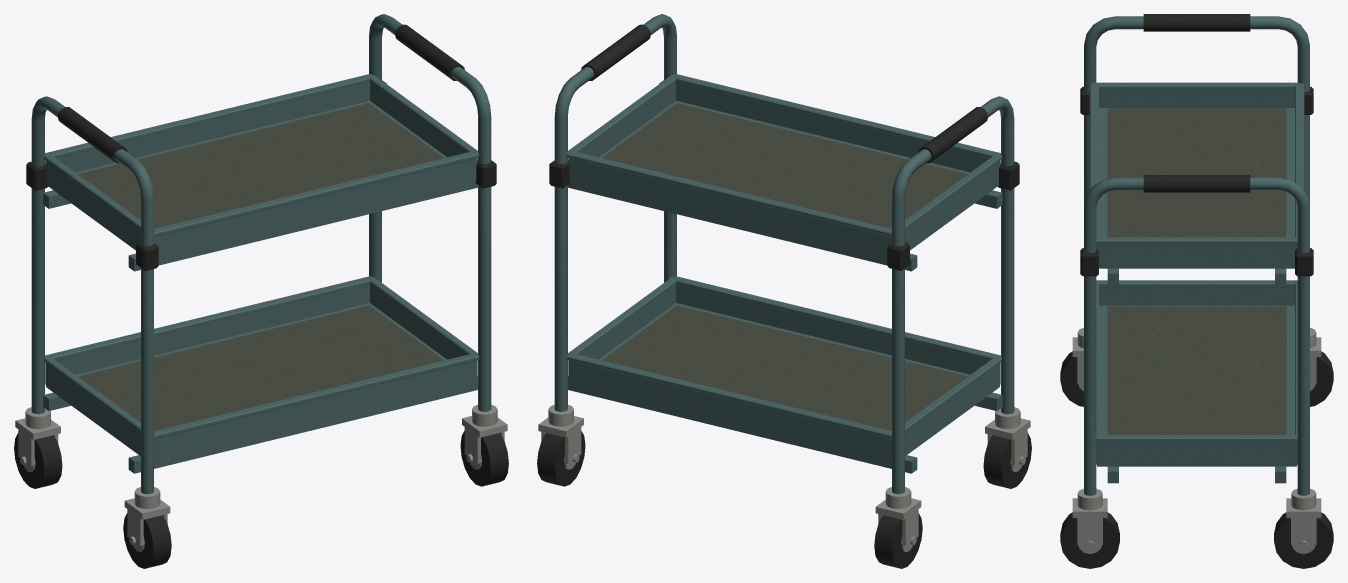
Rendered from motel_service_trolley.glb.
3 renders of one model, left to right at view 1: azimuth 30°, elevation 25°; view 2: azimuth 150°, elevation 25°; view 3: azimuth 270°, elevation 25°, orthographic. The views are drawn at different scales.
Visible parts, largest first — view 1: motel_service_trolley; view 2: motel_service_trolley; view 3: motel_service_trolley.
Part boxes in pixels (box(x1,y1,x2,y2)): motel_service_trolley: box(14, 14, 508, 568); motel_service_trolley: box(537, 14, 1031, 568); motel_service_trolley: box(1060, 14, 1333, 568).
Size of the model in its own units: 0.899 by 0.924 by 0.588.
1 material, 1 textured.
